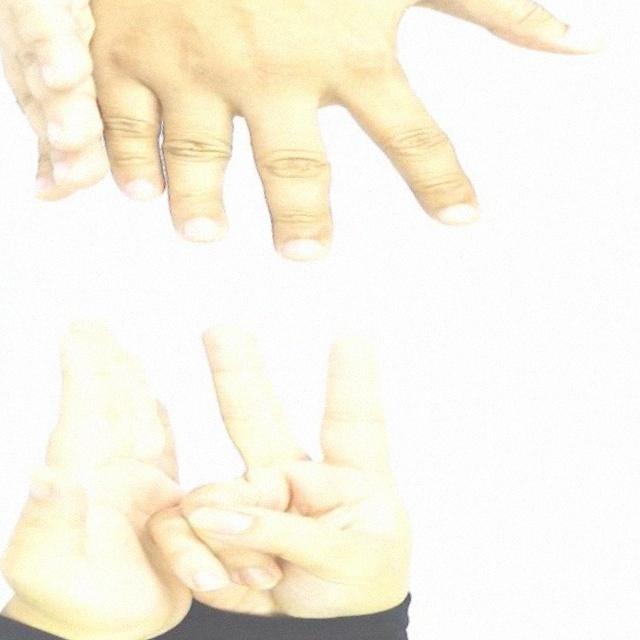Paper: (19, 0, 640, 366)
Scissors: (88, 272, 479, 640)
